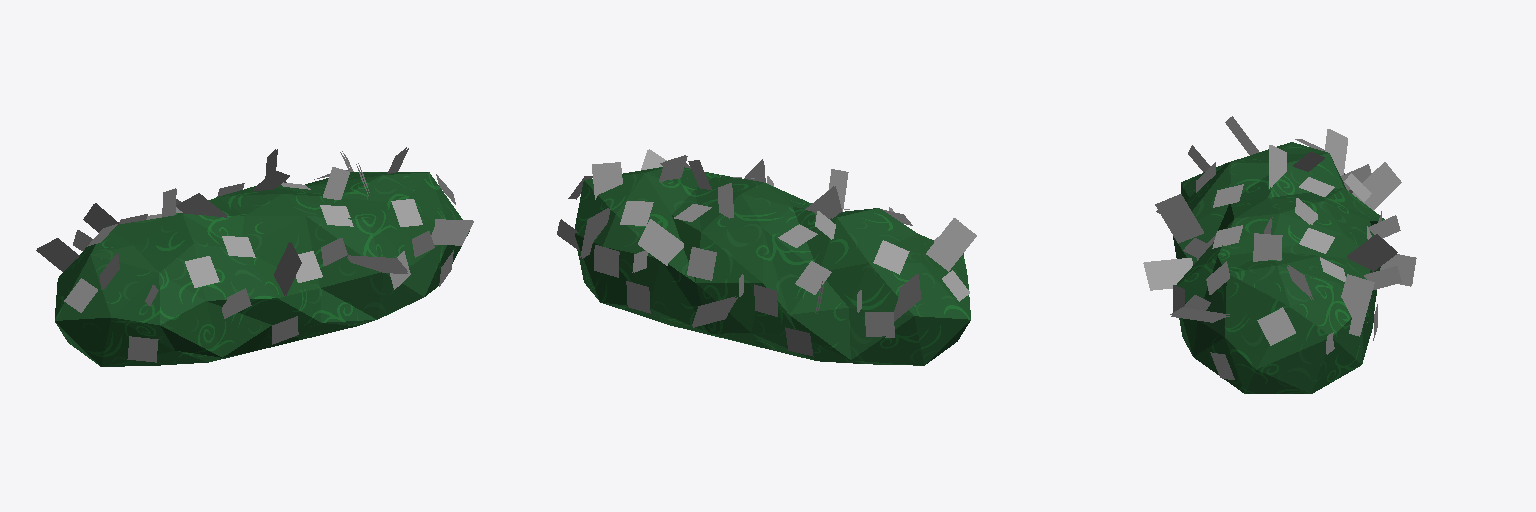
3 views of the same model, side by side, from view 1: azimuth 30°, elevation 25°; view 2: azimuth 150°, elevation 25°; view 3: azimuth 270°, elevation 25° (orthographic).
Parts seen in each view (by area): view 1: bush1_Icosphere.001; view 2: bush1_Icosphere.001; view 3: bush1_Icosphere.001.
Boxes of the visible parts, x1=… form: bush1_Icosphere.001: x1=36, y1=147, x2=473, y2=366; bush1_Icosphere.001: x1=557, y1=149, x2=976, y2=365; bush1_Icosphere.001: x1=1143, y1=116, x2=1416, y2=393.
Bounding box in the file's own units: 7.42 × 2.86 × 4.34.
2 materials, 1 textured.